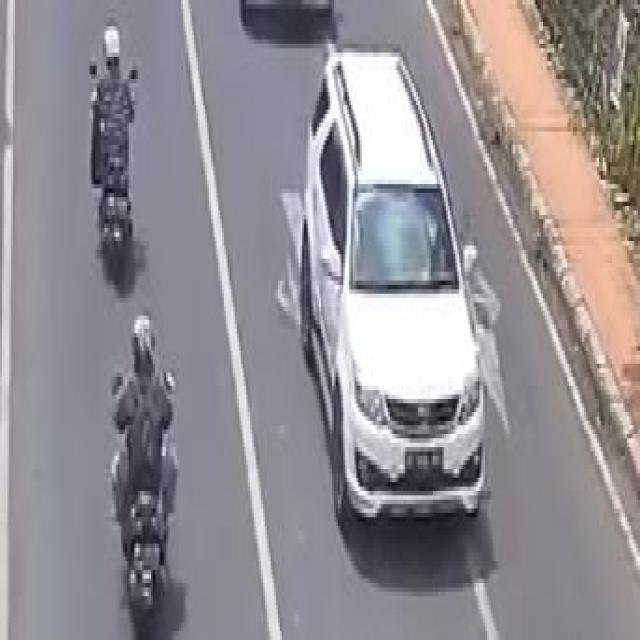car: (304, 59, 487, 554)
motorbike: (102, 320, 214, 640), (77, 18, 162, 290)
